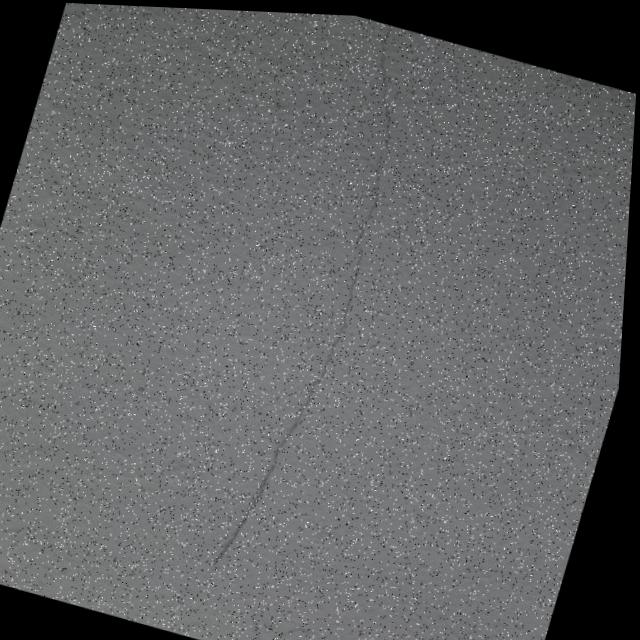Crack: (193, 8, 437, 594)
